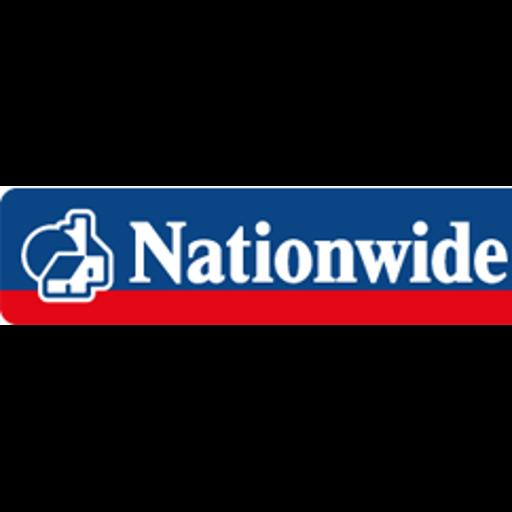Nationwide Building Society: (0, 186, 512, 325)
